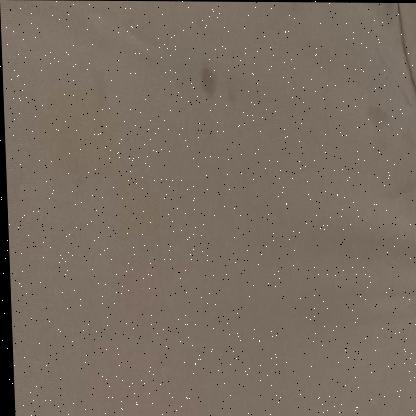spot: (201, 58, 218, 116), (367, 100, 390, 136)
